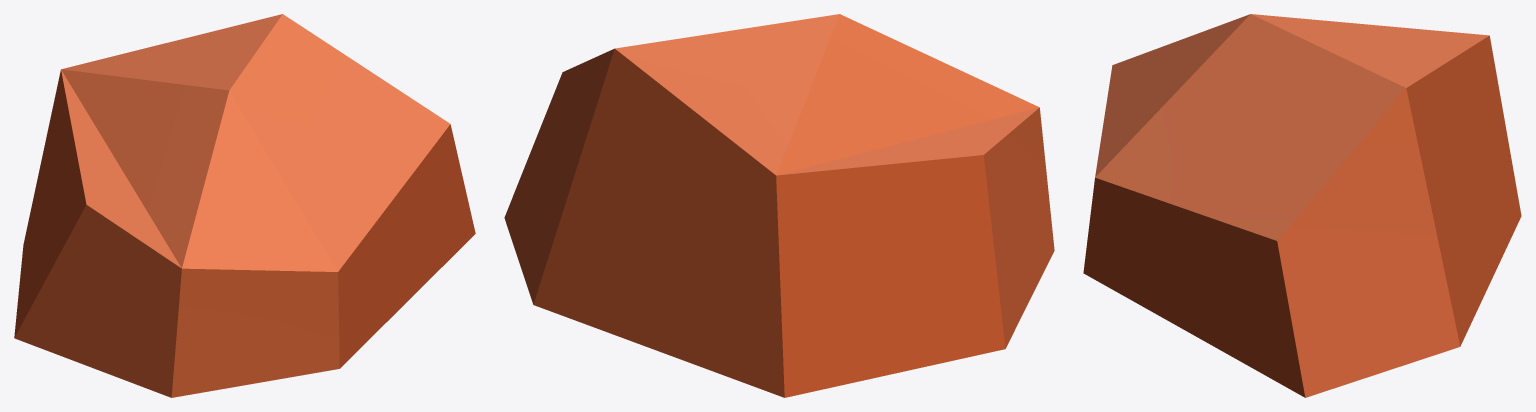
File: rock_01.fbx
3 renders of one model, left to right at view 1: azimuth 30°, elevation 25°; view 2: azimuth 150°, elevation 25°; view 3: azimuth 270°, elevation 25°, orthographic. The views are drawn at different scales.
Visible parts, largest first — view 1: rock_01; view 2: rock_01; view 3: rock_01.
Part boxes in pixels (x1=…): rock_01: x1=14, y1=14, x2=475, y2=397; rock_01: x1=504, y1=14, x2=1054, y2=397; rock_01: x1=1083, y1=14, x2=1521, y2=397.
Size of the model in its own units: 298 by 144 by 235.
